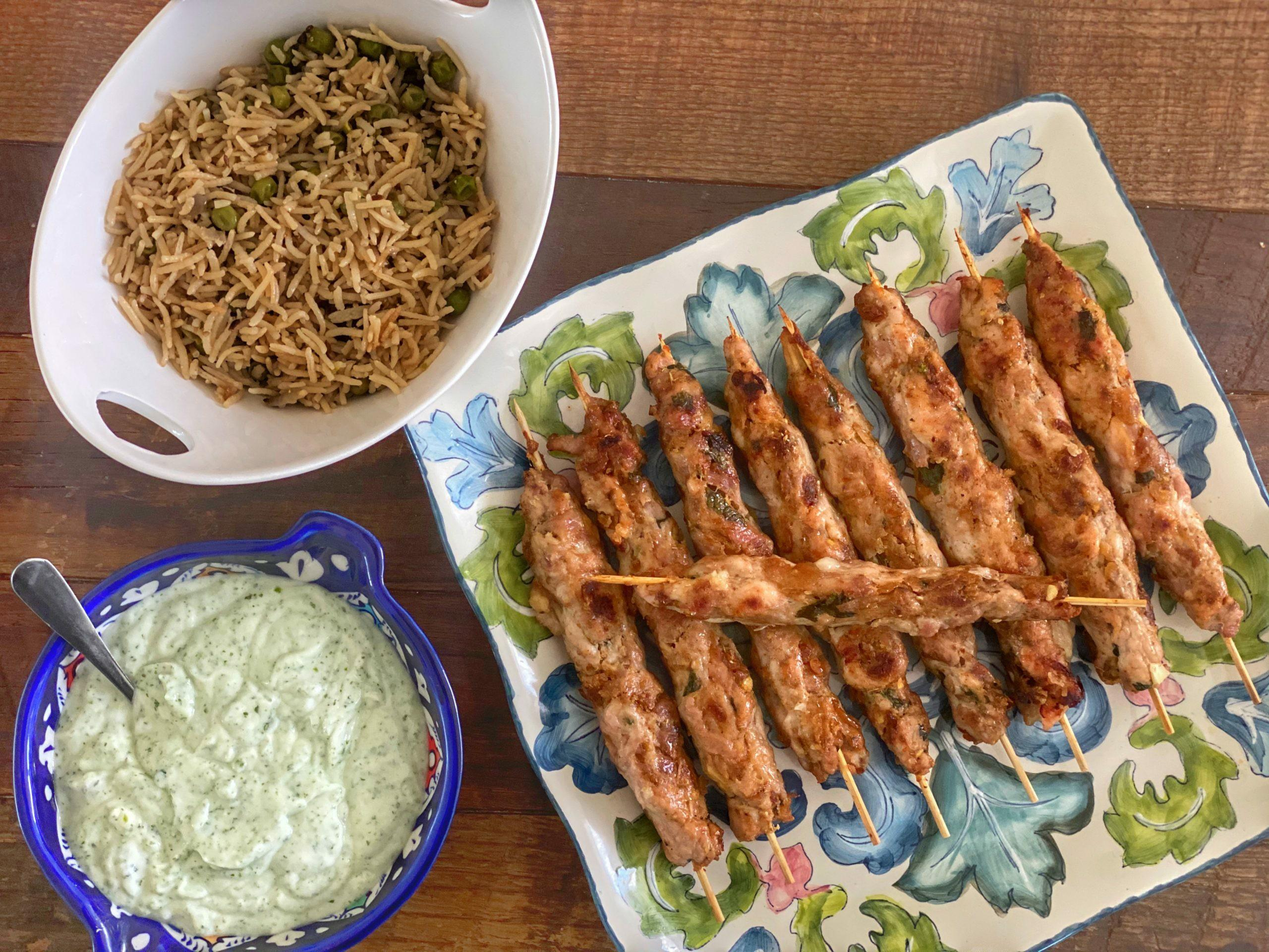Kebab: (549, 398, 795, 840), (854, 281, 1082, 728), (779, 318, 1014, 746), (644, 347, 869, 778), (724, 336, 933, 777), (956, 276, 1171, 694), (1025, 235, 1244, 634), (521, 466, 721, 868), (641, 556, 1068, 637)
